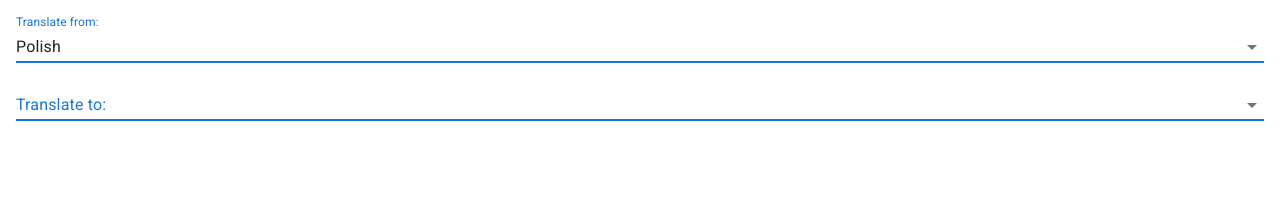
Test case: SearchMenu › should display all supported languages
The image size is (1280, 206).
Press the mouse on the dropdown with test id "search-menu-from" at [612, 46], box [16,31,1208,62]
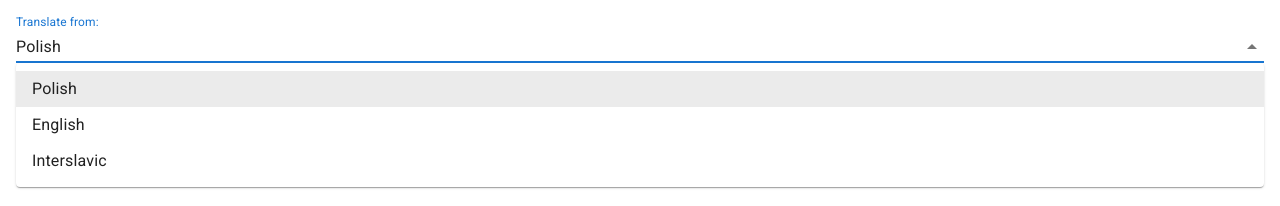
Expected: the option "Polish" is shown, [16,71,1264,107]
Expected: the option "English" is shown, [32,115,85,134]
Expected: the option "Interslavic" is shown, [32,151,107,170]
